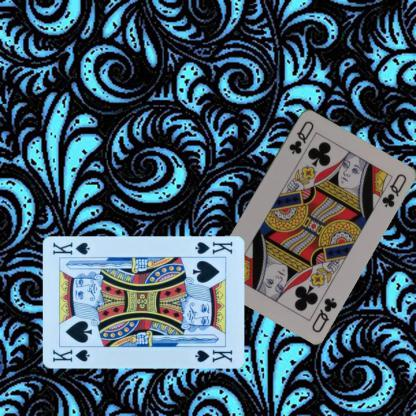Ks: (50, 346, 90, 364), (192, 239, 233, 256)
Qc: (308, 295, 338, 333), (286, 118, 315, 155)
